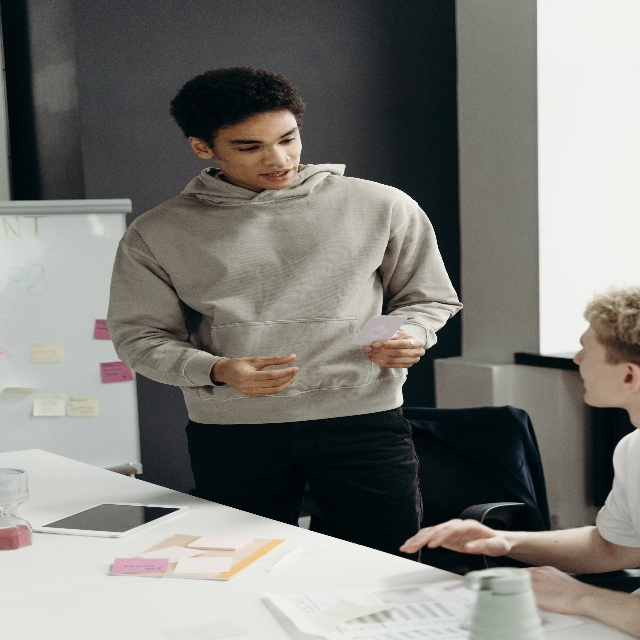Sin_guantes: (399, 515, 515, 556), (224, 352, 299, 395), (524, 565, 579, 609), (360, 335, 425, 370)
